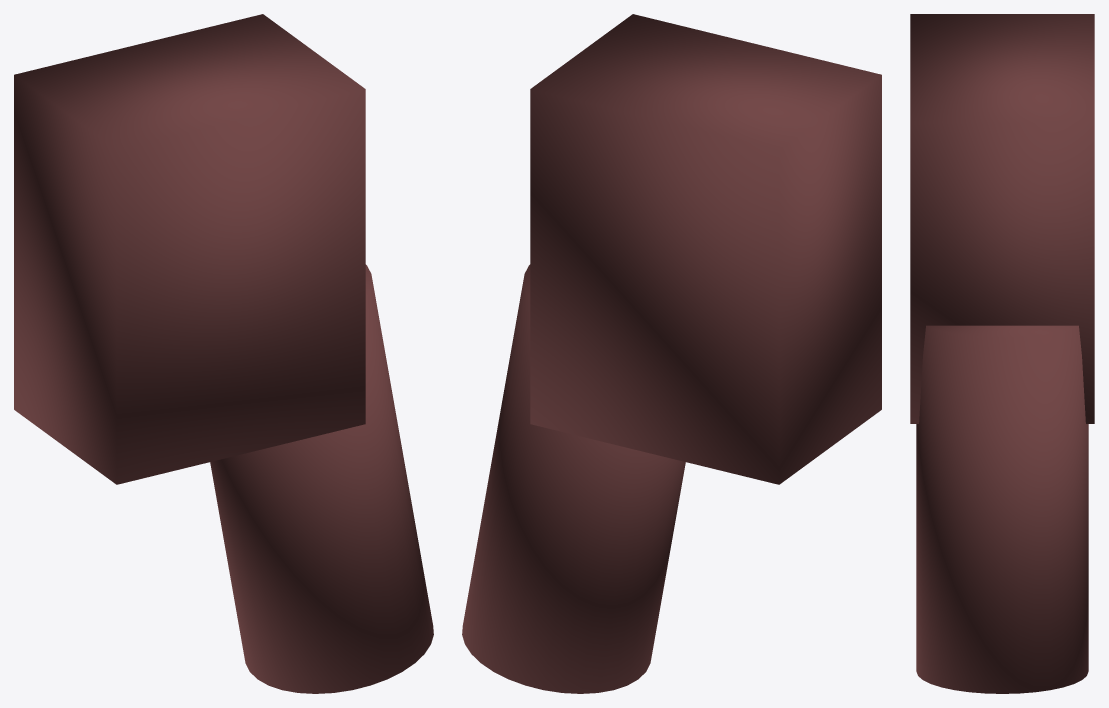
The model's file is AsuraMinion.fbx.
3 renders of one model, left to right at view 1: azimuth 30°, elevation 25°; view 2: azimuth 150°, elevation 25°; view 3: azimuth 270°, elevation 25°, orthographic. The views are drawn at different scales.
Parts seen in each view (by area): view 1: AsuraMinion; view 2: AsuraMinion; view 3: AsuraMinion.
Boxes of the visible parts, left/top/right/bottom form: AsuraMinion: left=14, top=14, right=433, bottom=693; AsuraMinion: left=462, top=14, right=881, bottom=693; AsuraMinion: left=910, top=14, right=1094, bottom=693.
Bounding box in the file's own units: 0.6 × 0.9898 × 0.3.
